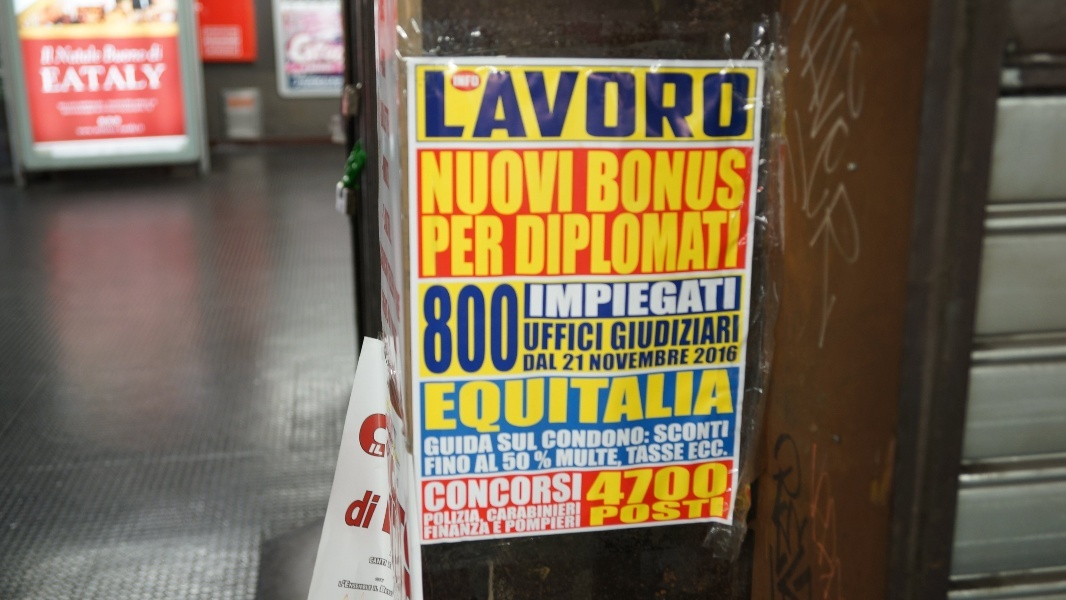text: (801, 1, 816, 369), (817, 1, 832, 369), (833, 1, 848, 369), (849, 1, 864, 369), (865, 1, 873, 369), (785, 437, 800, 600), (801, 437, 816, 600), (817, 437, 832, 600), (794, 1, 800, 369), (772, 437, 784, 600), (833, 437, 844, 600), (433, 283, 448, 376), (449, 283, 464, 376), (465, 283, 480, 376), (481, 283, 496, 376), (497, 283, 512, 376), (529, 210, 544, 282), (545, 210, 560, 282), (561, 210, 576, 282), (577, 210, 592, 282), (593, 210, 608, 282), (609, 210, 624, 282), (625, 210, 640, 282), (641, 210, 656, 282), (657, 210, 672, 282), (673, 210, 688, 282), (689, 210, 704, 282), (705, 210, 720, 282), (721, 210, 736, 282), (433, 70, 448, 139), (449, 70, 464, 139), (465, 70, 480, 139), (481, 70, 496, 139), (497, 70, 512, 139), (513, 70, 528, 139), (529, 70, 544, 139), (545, 70, 560, 139), (561, 70, 576, 139), (577, 70, 592, 139), (593, 70, 608, 139), (609, 70, 624, 139), (625, 70, 640, 139), (641, 70, 656, 139), (657, 70, 672, 139), (673, 70, 688, 139), (689, 70, 704, 139), (705, 70, 720, 139), (721, 70, 736, 139), (433, 370, 448, 438), (449, 370, 464, 438), (465, 370, 480, 438), (481, 370, 496, 438), (497, 370, 512, 438), (513, 370, 528, 438), (529, 370, 544, 438), (545, 370, 560, 438), (561, 370, 576, 438), (577, 370, 592, 438), (593, 370, 608, 438), (609, 370, 624, 438), (625, 370, 640, 438), (641, 370, 656, 438), (657, 370, 672, 438), (673, 370, 688, 438), (689, 370, 704, 438), (705, 370, 720, 438), (737, 70, 751, 139), (433, 151, 448, 215), (449, 151, 464, 215), (465, 151, 480, 215), (481, 151, 496, 215), (497, 151, 512, 215), (513, 151, 528, 215), (529, 151, 544, 215), (545, 151, 560, 215), (593, 150, 608, 214), (609, 150, 624, 214), (625, 150, 640, 214), (641, 150, 656, 214), (657, 150, 672, 214), (673, 150, 688, 214), (689, 150, 704, 214), (705, 150, 720, 214), (721, 150, 736, 214), (721, 370, 735, 438), (433, 216, 448, 276), (449, 216, 464, 276), (465, 216, 480, 276), (481, 216, 496, 276), (516, 210, 528, 282), (561, 151, 574, 215), (424, 283, 432, 376), (369, 412, 384, 459), (421, 151, 432, 215), (737, 150, 748, 214), (609, 462, 624, 508), (625, 462, 640, 508), (641, 462, 656, 508), (657, 462, 672, 508), (673, 462, 688, 508), (689, 462, 704, 508), (705, 462, 720, 508), (421, 216, 432, 276), (513, 283, 520, 376), (545, 277, 560, 320), (561, 277, 576, 320), (577, 277, 592, 320), (593, 277, 608, 320), (609, 277, 624, 320), (625, 277, 640, 320), (641, 277, 656, 320), (657, 277, 672, 320), (673, 277, 688, 320), (689, 277, 704, 320), (705, 277, 720, 320), (721, 277, 736, 320), (530, 277, 544, 320), (433, 473, 448, 513), (449, 473, 464, 513), (465, 473, 480, 513), (481, 473, 496, 513), (497, 473, 512, 513), (513, 473, 528, 513), (529, 473, 544, 513), (545, 473, 560, 513), (561, 473, 576, 513), (65, 99, 80, 137), (81, 99, 96, 137), (97, 99, 112, 137), (113, 99, 128, 137), (129, 99, 144, 137), (424, 70, 432, 139), (424, 370, 432, 438), (625, 315, 640, 351), (641, 315, 656, 351), (657, 315, 672, 351), (673, 315, 688, 351), (689, 315, 704, 351), (705, 315, 720, 351), (721, 315, 736, 351), (145, 99, 159, 137), (305, 31, 320, 65), (321, 31, 336, 65), (597, 462, 608, 508), (369, 489, 381, 530), (49, 63, 64, 95), (65, 63, 80, 95), (81, 63, 96, 95), (97, 63, 112, 95), (113, 63, 128, 95), (129, 63, 144, 95), (145, 63, 160, 95), (209, 27, 224, 57), (225, 27, 240, 57), (593, 497, 608, 527), (609, 497, 624, 527), (625, 497, 640, 527), (641, 497, 656, 527), (657, 497, 672, 527), (673, 497, 688, 527), (689, 497, 704, 527), (705, 497, 720, 527), (612, 315, 624, 351), (497, 216, 504, 276), (529, 323, 544, 351), (545, 323, 560, 351), (561, 323, 576, 351), (577, 323, 592, 351), (545, 426, 560, 453), (561, 426, 576, 453), (577, 426, 592, 453), (593, 426, 608, 453), (609, 426, 624, 453), (625, 426, 640, 453), (54, 99, 64, 137), (657, 420, 672, 445), (673, 420, 688, 445), (689, 420, 704, 445), (705, 420, 720, 445), (293, 31, 304, 65), (721, 462, 729, 508), (737, 210, 742, 282), (593, 348, 608, 372), (609, 348, 624, 372), (625, 348, 640, 372), (641, 348, 656, 372), (657, 348, 672, 372), (673, 348, 688, 372), (513, 449, 528, 473), (529, 449, 544, 473), (49, 43, 64, 66), (65, 43, 80, 66), (81, 43, 96, 66), (97, 43, 112, 66), (113, 43, 128, 66), (129, 43, 144, 66), (145, 43, 160, 66), (433, 434, 448, 457), (449, 434, 464, 457), (465, 434, 480, 457), (625, 442, 640, 465), (641, 442, 656, 465), (657, 442, 672, 465), (433, 455, 448, 477), (449, 455, 464, 477), (561, 448, 576, 470), (577, 448, 592, 470), (593, 448, 608, 470), (689, 439, 704, 461), (705, 439, 720, 461), (360, 489, 368, 530), (424, 473, 432, 513), (481, 453, 496, 474), (497, 502, 512, 523), (513, 502, 528, 523), (529, 502, 544, 523), (545, 502, 560, 523), (561, 502, 576, 523), (609, 448, 623, 470), (705, 345, 720, 365), (721, 345, 736, 365), (497, 432, 512, 452), (513, 432, 528, 452), (497, 515, 512, 535), (513, 515, 528, 535), (529, 515, 544, 535), (545, 515, 560, 535), (561, 515, 576, 535), (481, 434, 494, 457), (161, 63, 170, 95), (529, 353, 544, 372), (593, 323, 603, 351), (673, 442, 685, 465), (337, 31, 345, 65), (641, 426, 651, 453), (433, 522, 448, 540), (449, 522, 464, 540), (465, 522, 480, 540), (588, 150, 592, 214), (40, 63, 48, 95), (433, 510, 448, 527), (449, 510, 464, 527), (465, 510, 480, 527), (545, 353, 558, 372), (502, 449, 512, 473), (353, 579, 368, 593), (564, 354, 576, 371), (721, 420, 729, 445), (577, 473, 582, 513), (545, 449, 553, 473), (487, 502, 496, 523), (424, 434, 432, 457), (339, 579, 352, 593), (695, 345, 704, 365), (529, 432, 538, 452), (481, 522, 491, 540), (424, 455, 432, 477), (465, 75, 479, 87), (41, 43, 48, 66), (372, 443, 384, 456), (721, 439, 728, 461), (203, 27, 208, 57), (452, 75, 464, 87), (424, 522, 432, 540), (365, 412, 368, 459), (424, 510, 432, 527), (465, 455, 471, 477), (371, 557, 384, 567), (524, 323, 528, 351), (737, 315, 740, 351), (385, 585, 393, 598), (577, 354, 583, 371), (385, 412, 387, 459), (721, 497, 724, 527), (389, 562, 400, 570), (556, 448, 560, 470), (577, 502, 581, 523), (577, 515, 581, 535), (524, 353, 528, 372), (161, 43, 164, 66), (481, 510, 485, 527), (477, 453, 480, 474), (497, 453, 500, 474), (390, 551, 400, 557), (374, 586, 384, 592), (590, 497, 592, 527), (493, 515, 496, 535), (376, 577, 384, 584), (369, 579, 373, 593), (542, 426, 544, 453), (654, 420, 656, 445), (590, 348, 592, 372), (737, 345, 739, 365), (241, 27, 242, 57), (382, 585, 384, 598), (689, 348, 690, 372), (385, 557, 387, 567)
